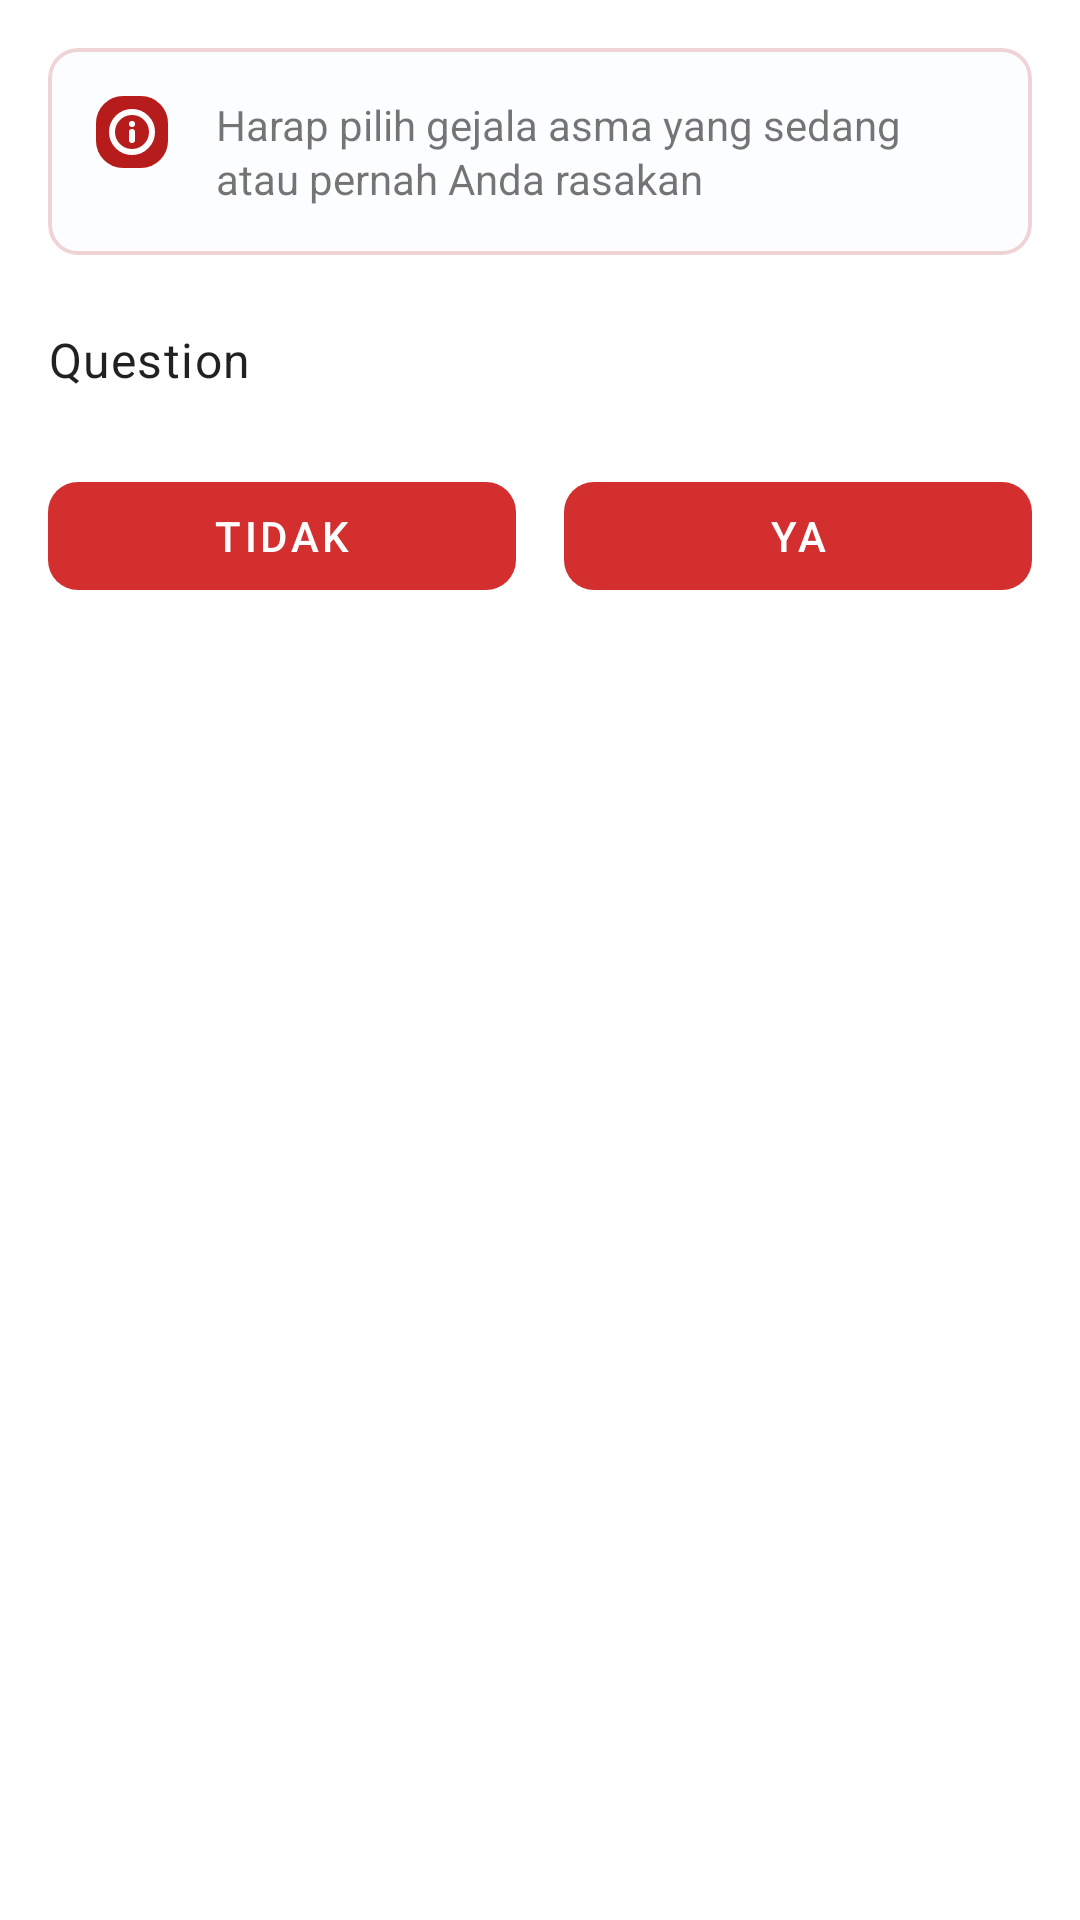

Icon click points for this 1080x1920 phone screenshot, format point (x, y):
info: point (132, 132)
